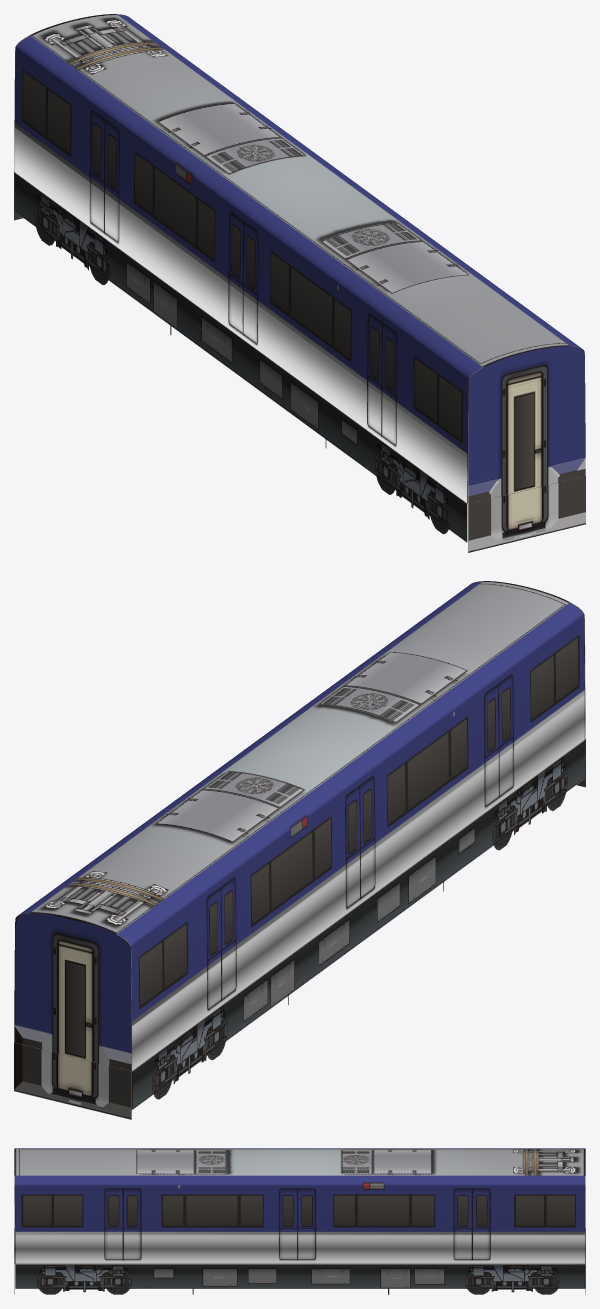
The model's file is car3.glb.
The picture shows the model from 3 angles, top to bottom: view 1: azimuth 30°, elevation 25°; view 2: azimuth 150°, elevation 25°; view 3: azimuth 270°, elevation 25°; orthographic projection. The views are drawn at different scales.
Parts seen in each view (by area): view 1: keihan-3000-car3; view 2: keihan-3000-car3; view 3: keihan-3000-car3.
Boxes of the visible parts, x1,y1,x2,y2 form: keihan-3000-car3: (14,14,585,552); keihan-3000-car3: (14,581,585,1119); keihan-3000-car3: (14,1148,585,1294).
Bounding box in the file's own units: 2.72 × 4.12 × 18.23.
Materials: 9 (8 with a texture image).
